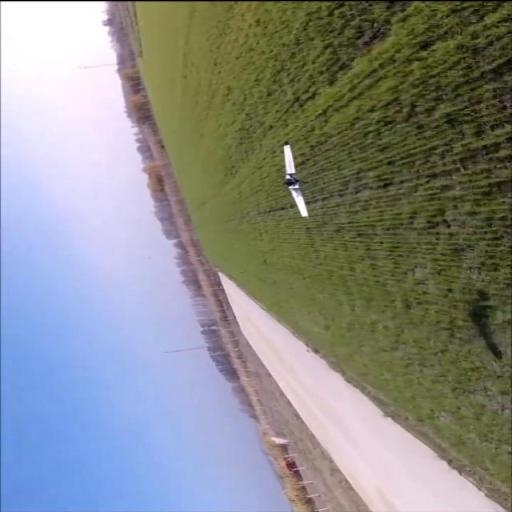uav: (278, 141, 314, 217)
